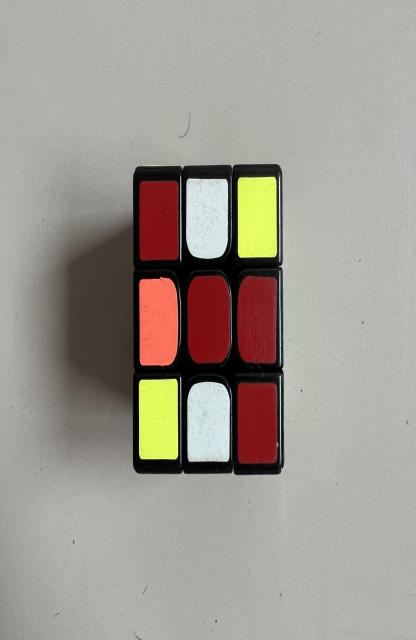Orange: (139, 277, 178, 365)
Red: (188, 275, 231, 363), (237, 277, 277, 363), (237, 382, 277, 463), (139, 182, 179, 262)
White: (187, 382, 230, 462), (186, 178, 228, 258)
Yellow: (237, 177, 277, 258), (139, 378, 178, 460)
